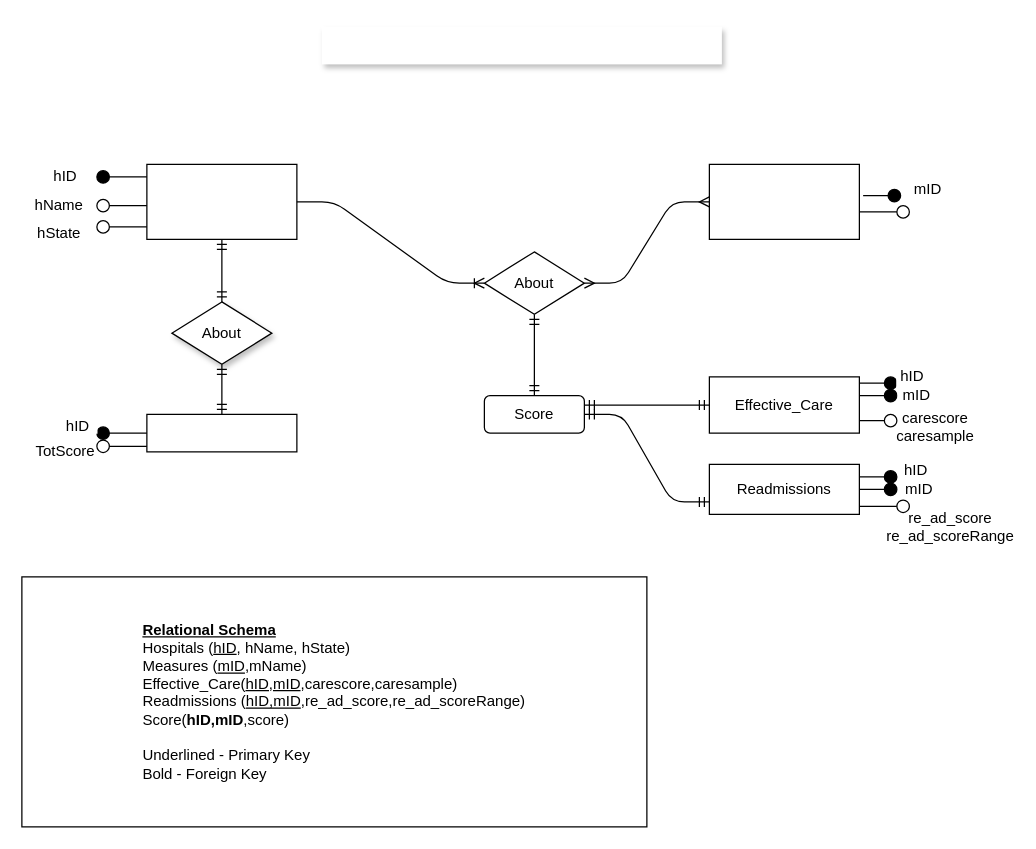
This 1036x849 diagram has some shape labels left out. Each missing label, with the centre of its shape:
ER Diagram: the point at 522,46
Hospitals: the point at 221,201
Measures: the point at 783,201
mName: the point at 947,210
Surveys: the point at 221,432
